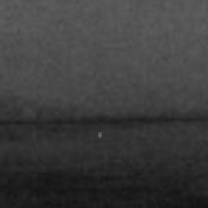Target: (97, 131, 103, 138)
